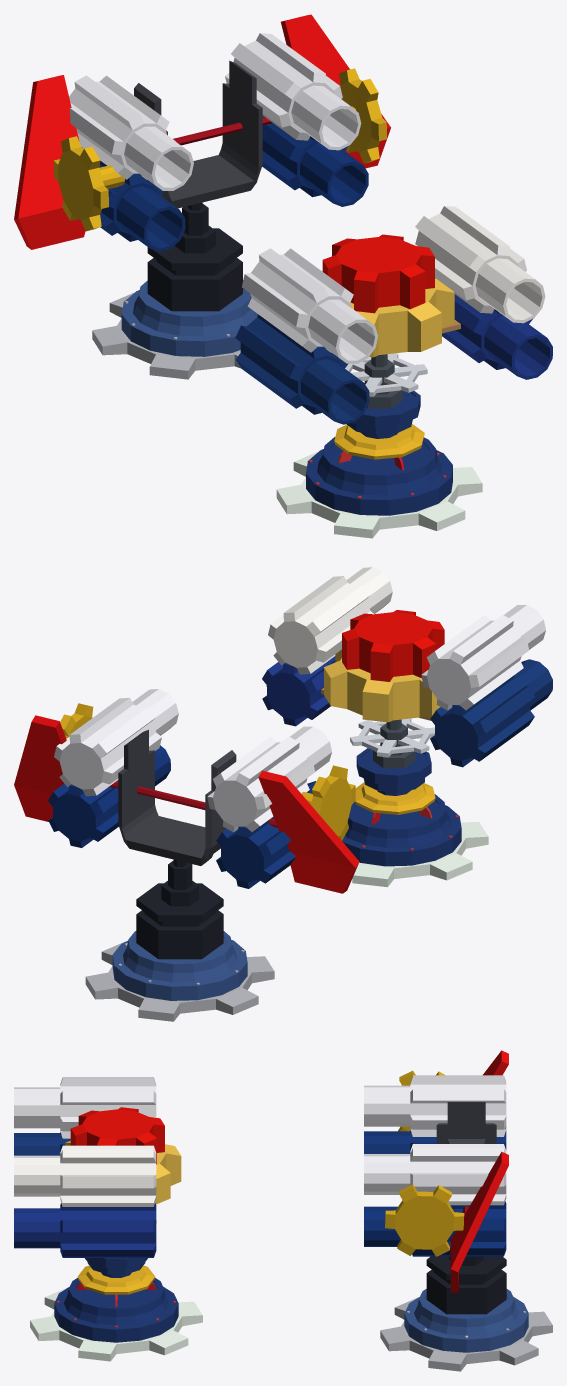
The model's file is Sub - Torret Water Set 3.fbx.
3 views of the same model, one above another, from view 1: azimuth 30°, elevation 25°; view 2: azimuth 150°, elevation 25°; view 3: azimuth 270°, elevation 25° (orthographic). The views are drawn at different scales.
Parts seen in each view (by area): view 1: Cannon_5_Mid, GearCannon_2_Gun.007, GearCannon_2_Mid, Cannon_5_Base; view 2: Cannon_5_Mid, GearCannon_2_Gun.007, GearCannon_2_Mid, Cannon_5_Base; view 3: Cannon_5_Mid, GearCannon_2_Gun.007, GearCannon_2_Mid, Cannon_5_Base.
Boxes of the visible parts, box(x1,y1,x2,y2) form: Cannon_5_Mid: box(14, 14, 390, 311); GearCannon_2_Gun.007: box(235, 206, 552, 424); GearCannon_2_Mid: box(276, 353, 482, 538); Cannon_5_Base: box(92, 280, 257, 379); Cannon_5_Mid: box(14, 689, 359, 959); GearCannon_2_Gun.007: box(262, 567, 552, 767); GearCannon_2_Mid: box(342, 718, 488, 887); Cannon_5_Base: box(85, 931, 274, 1021); Cannon_5_Mid: box(364, 1050, 508, 1314); GearCannon_2_Gun.007: box(14, 1077, 181, 1257); GearCannon_2_Mid: box(30, 1220, 202, 1361); Cannon_5_Base: box(380, 1289, 552, 1371).
Bounding box in the file's own units: 810 × 569 × 1209.
